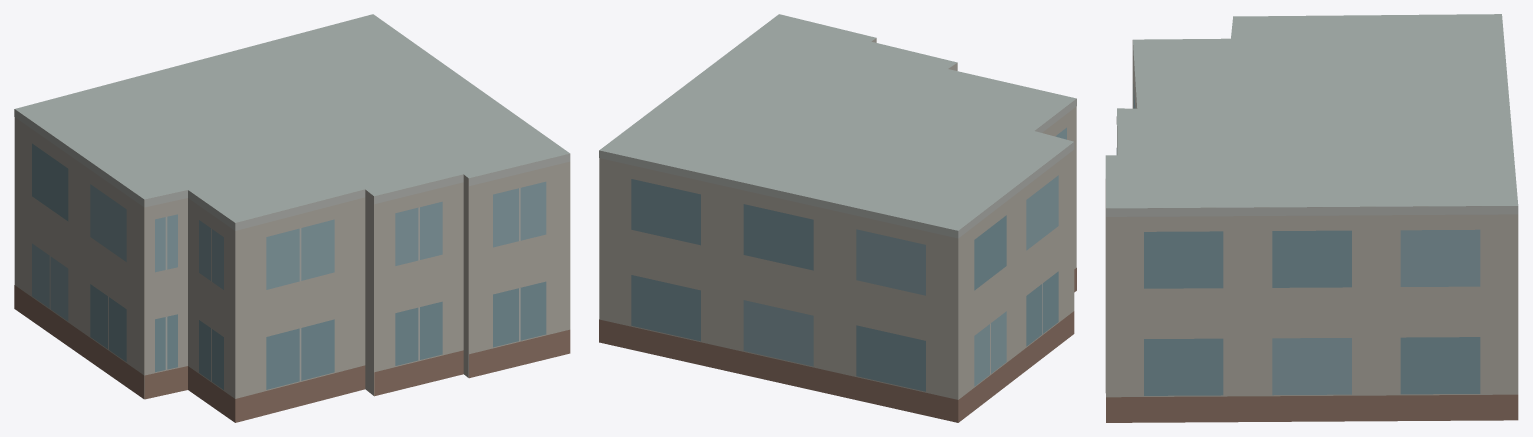
Rendered from survey-upis-32658882.glb.
The picture shows the model from 3 angles, left to right: view 1: azimuth 30°, elevation 25°; view 2: azimuth 150°, elevation 25°; view 3: azimuth 270°, elevation 25°; orthographic projection. The views are drawn at different scales.
Parts seen in each view (by area): view 1: survey-upis-32658882.tmp; view 2: survey-upis-32658882.tmp; view 3: survey-upis-32658882.tmp.
Part boxes in pixels (x1=…): survey-upis-32658882.tmp: x1=14, y1=14, x2=570, y2=422; survey-upis-32658882.tmp: x1=599, y1=14, x2=1076, y2=422; survey-upis-32658882.tmp: x1=1105, y1=14, x2=1518, y2=422.
Size of the model in its own units: 11.87 by 6.1 by 10.65.
